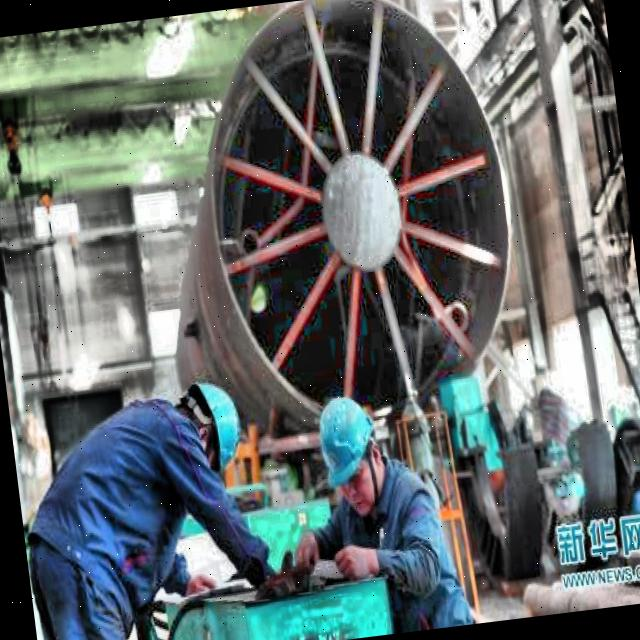helmet: (308, 389, 388, 518), (167, 363, 252, 477)
